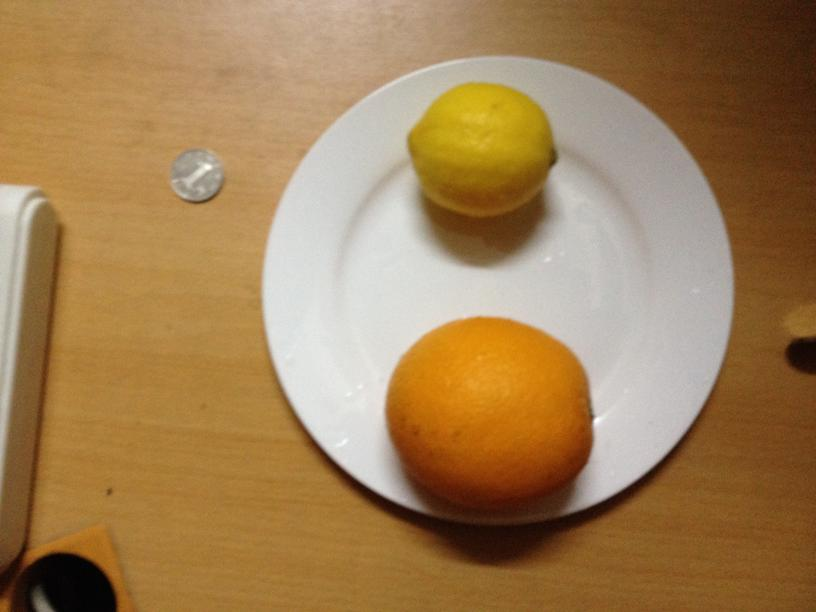coin: (166, 148, 223, 201)
lemon: (405, 82, 557, 217)
orange: (387, 317, 594, 503)
